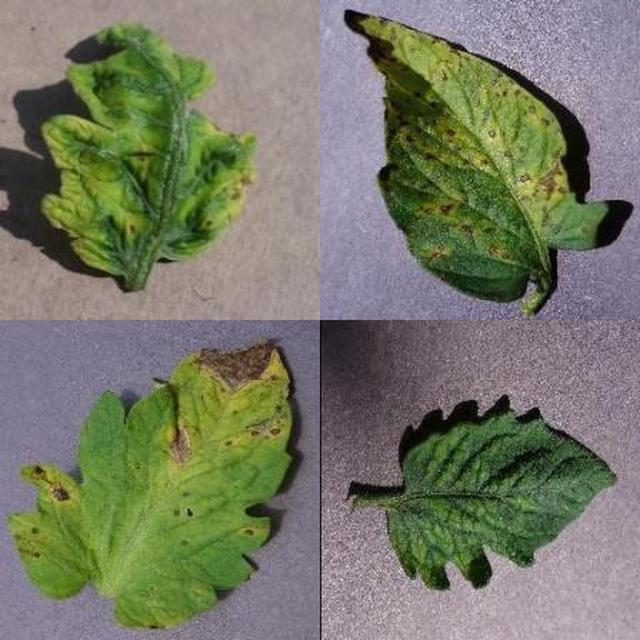Yellow Leaf Curl Virus: (213, 214, 640, 640)
